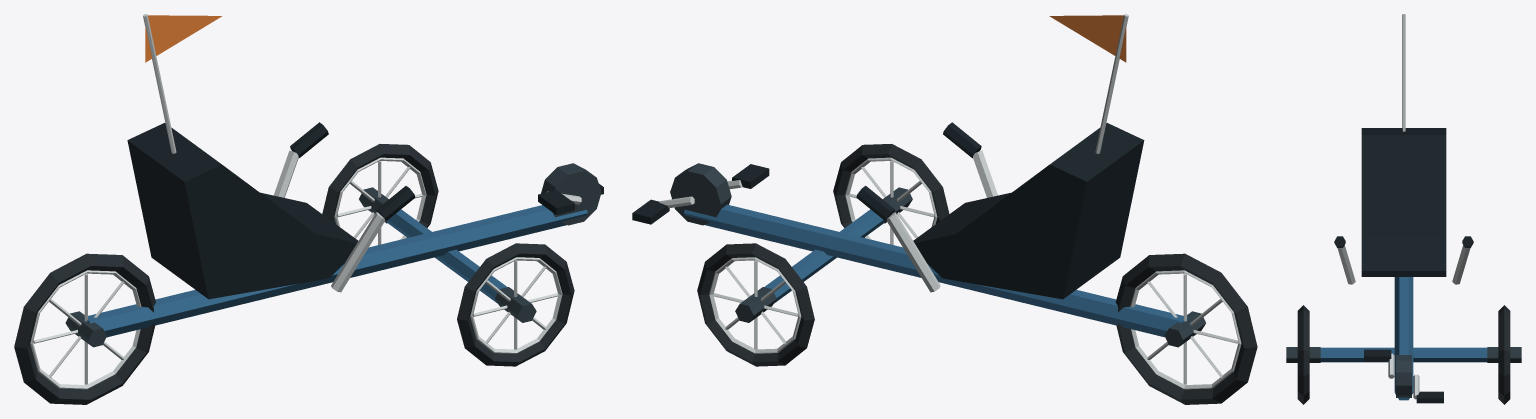
Rendered from b03_recumbent_tadpole_tricycle.glb.
The picture shows the model from 3 angles, left to right: view 1: azimuth 30°, elevation 25°; view 2: azimuth 150°, elevation 25°; view 3: azimuth 270°, elevation 25°; orthographic projection. The views are drawn at different scales.
Parts seen in each view (by area): view 1: b03_recumbent_tadpole_tricycle; view 2: b03_recumbent_tadpole_tricycle; view 3: b03_recumbent_tadpole_tricycle.
Part boxes in pixels (<box>): b03_recumbent_tadpole_tricycle: <box>14,14,603,404</box>; b03_recumbent_tadpole_tricycle: <box>632,14,1257,404</box>; b03_recumbent_tadpole_tricycle: <box>1286,14,1521,404</box>.
Bounding box in the file's own units: 2.23 × 1.34 × 1.03.
